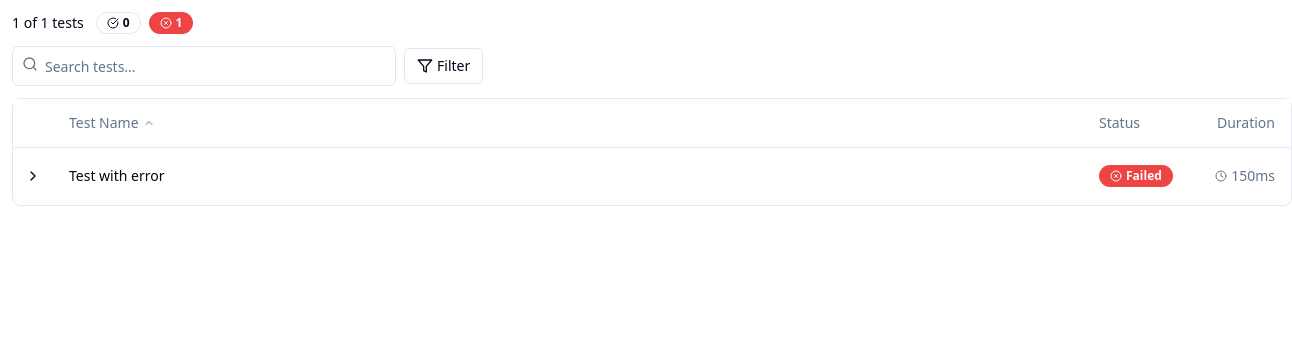
Test case: TestResultsTable › Expanded Row Content › shows error message when error tab is active
Step 1. Click the text "Test with error" → (117, 176), box [13, 147, 1291, 204]
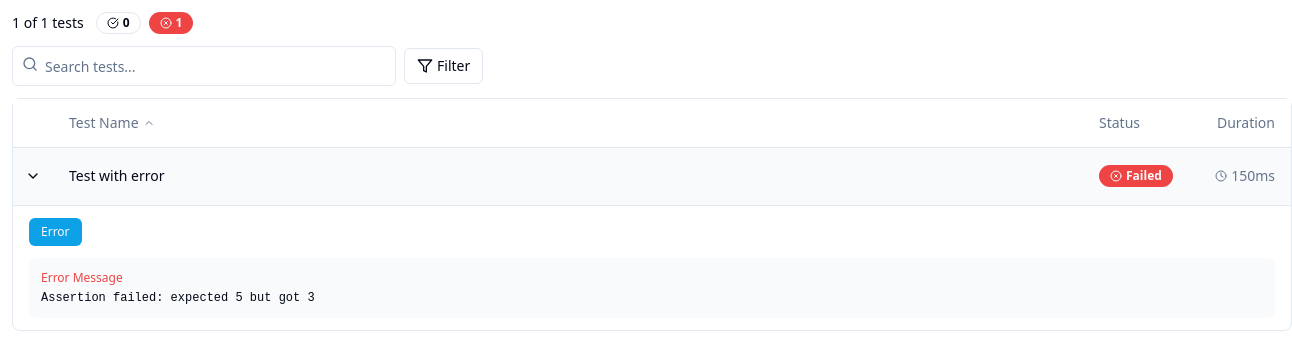
expect the text "Error Message" is shown: met, box [41, 268, 123, 286]
expect the text "Assertion failed: expected 5 but got 3" is shown: met, box [41, 290, 315, 304]
